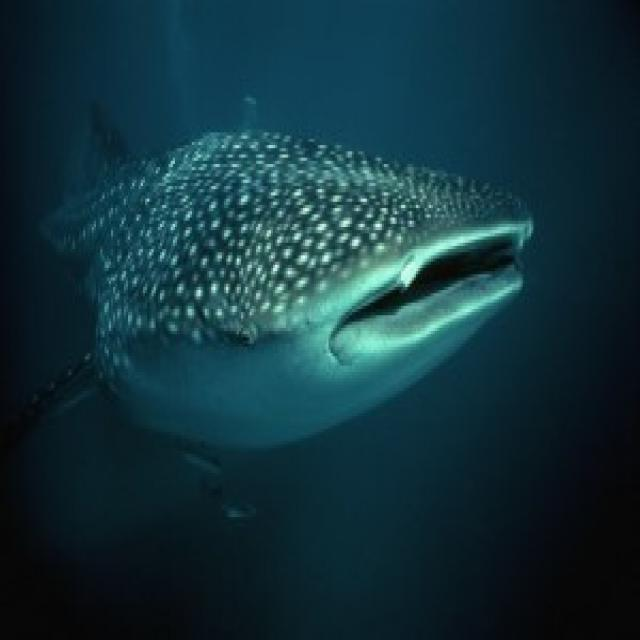Shark: (36, 80, 546, 454)
